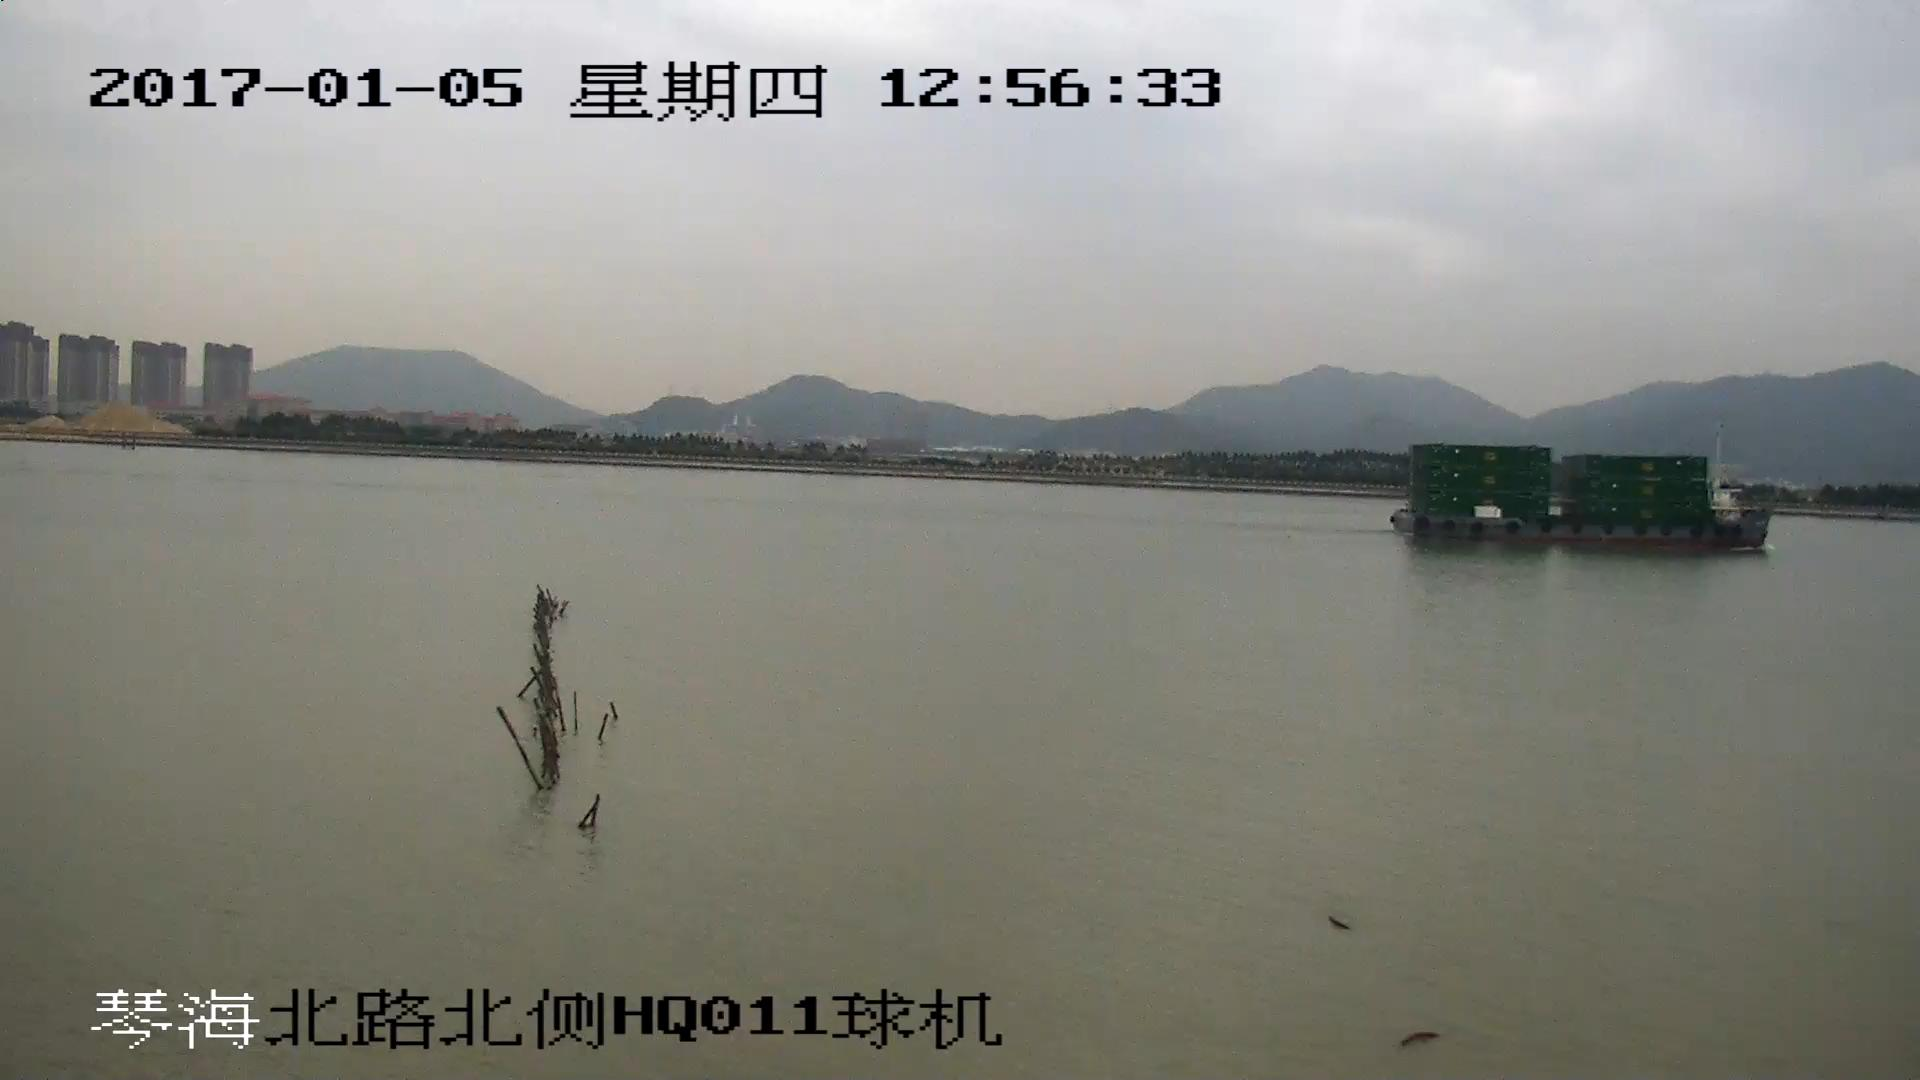container ship: (1399, 439, 1774, 555)
